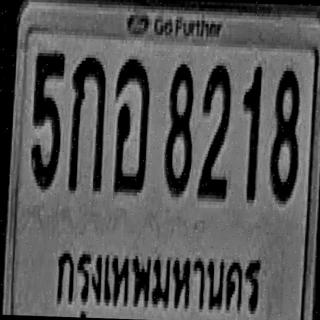A01: (67, 54, 106, 192)
A43: (112, 56, 150, 193)
N01: (240, 63, 262, 200)
N02: (197, 62, 231, 198)
N05: (30, 48, 64, 188)
N08: (163, 60, 194, 194), (270, 67, 300, 201)
P04: (48, 238, 271, 320)
